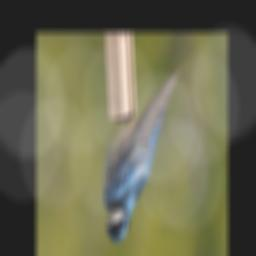Swallow: (101, 62, 181, 248)
